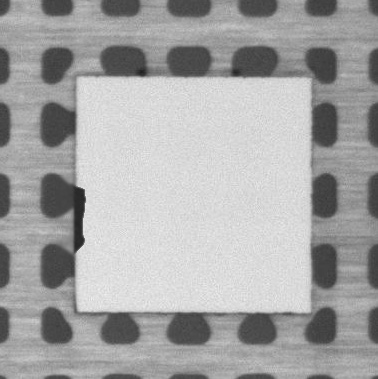DIE_BROKEN: (71, 179, 88, 258)
